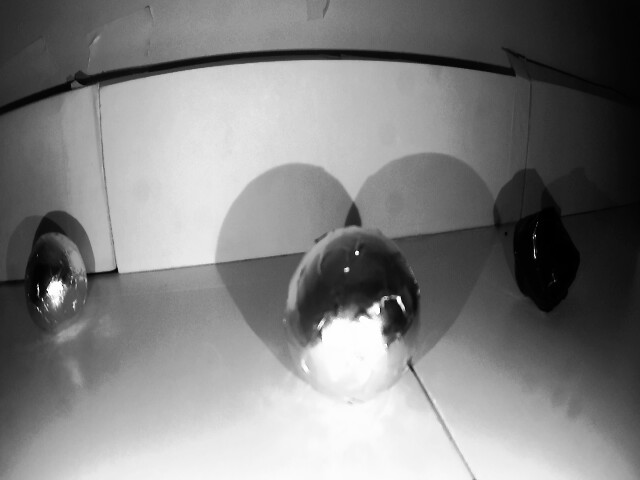black: (514, 210, 580, 318)
silver: (271, 218, 438, 411), (17, 235, 93, 329)
